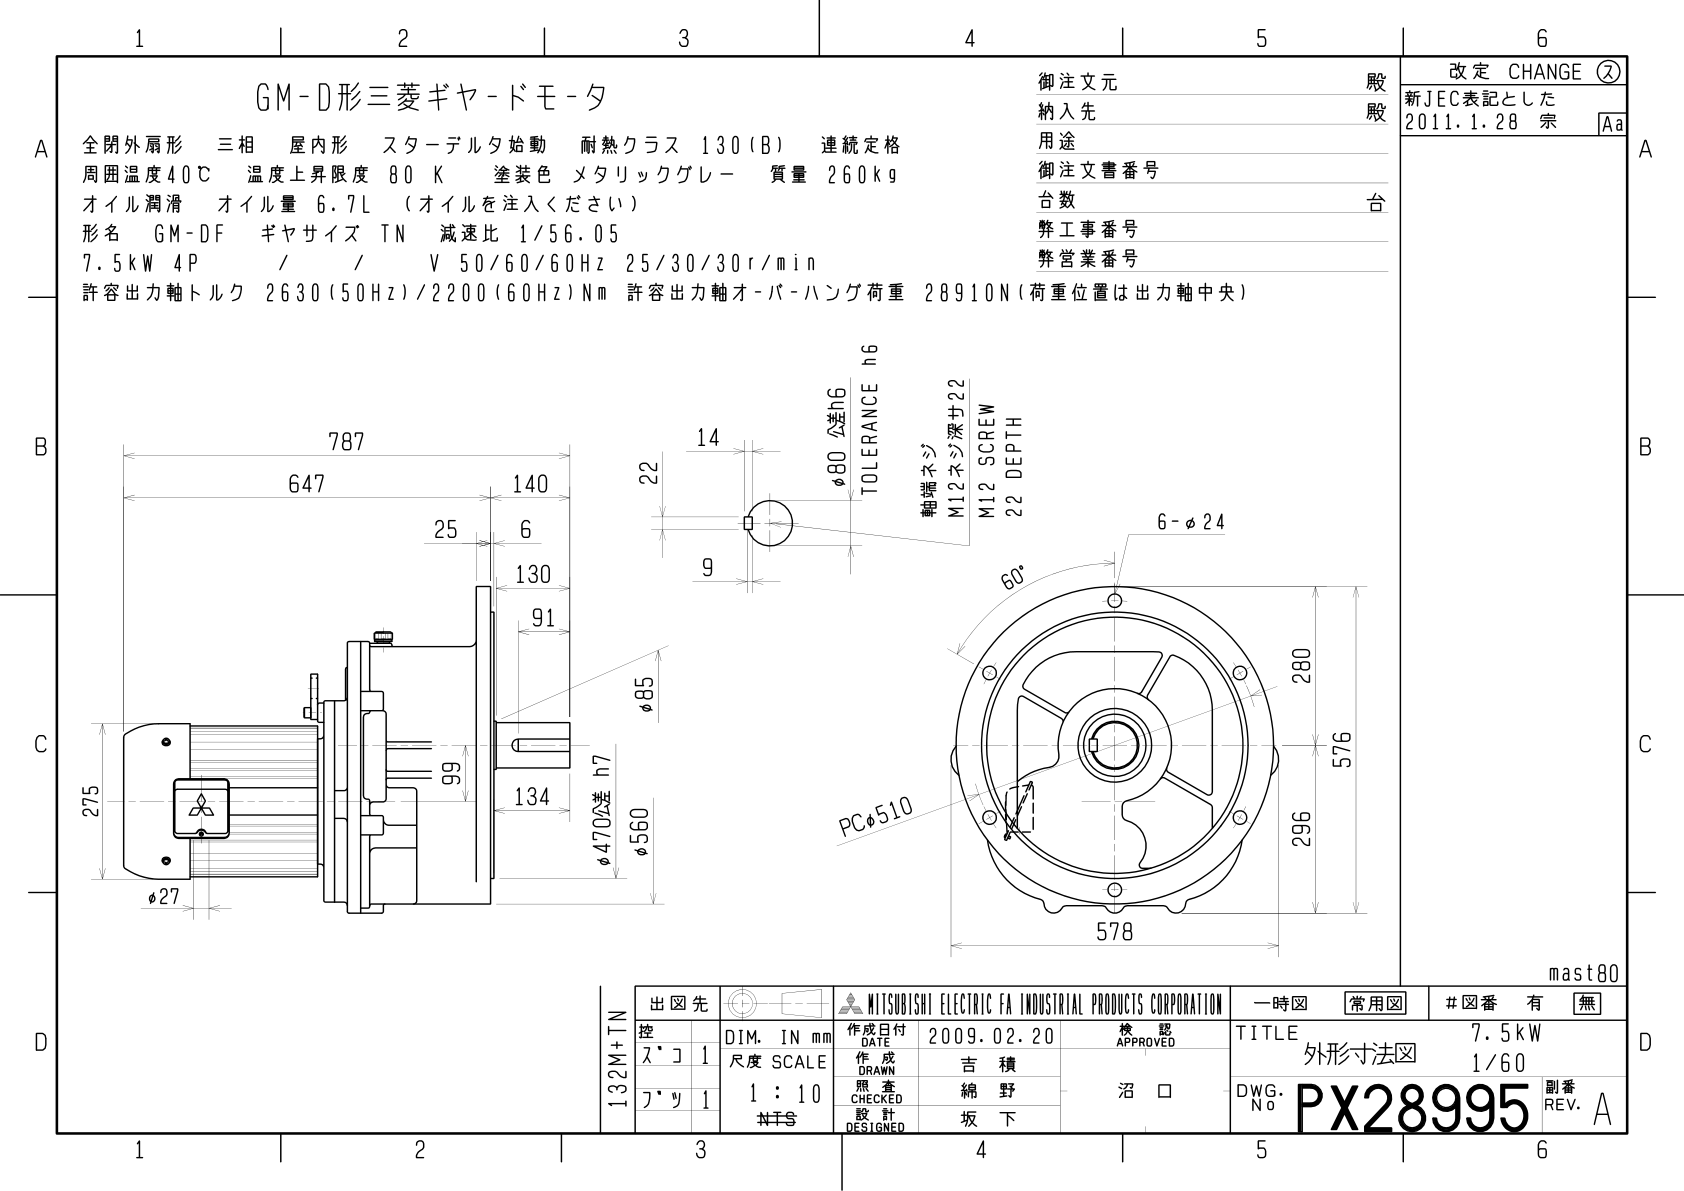GM_D_屋内＿三相_フランジ: (44, 324, 1385, 962)
